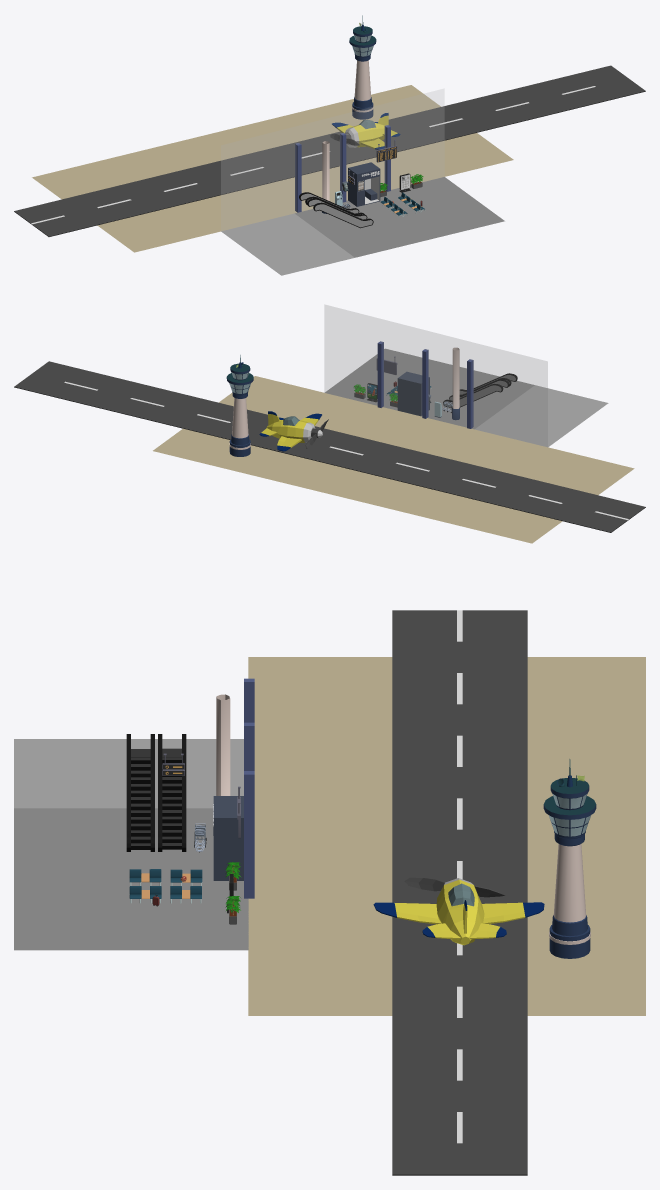
Rendered from airport3_compression.glb.
The picture shows the model from 3 angles, top to bottom: view 1: azimuth 30°, elevation 25°; view 2: azimuth 150°, elevation 25°; view 3: azimuth 270°, elevation 25°; orthographic projection. The views are drawn at different scales.
Parts seen in each view (by area): view 1: BG_Floor, BG_Outside, BG_Track, OBJ_Top, OBJ_Airplane, INT_Photobooth, INT_Escalator_handle1, BG_Column1, BG_Column3, BG_Column2; view 2: BG_Outside, BG_Floor, BG_Track, OBJ_Top, OBJ_Airplane, INT_Photobooth, INT_Escalator_handle2, BG_Column1, BG_Column2, BG_Column3, BG_Column4; view 3: BG_Outside, BG_Track, BG_Floor, OBJ_Top, OBJ_Airplane, INT_Photobooth, INT_Escalator_stair1, INT_Escalator_stair2, BG_Column1, BG_Column4, INT_Escalator_handle1, INT_Escalator_handle2.
Part boxes in pixels (left/top/right/bottom): BG_Floor: left=221, top=89, right=504, bottom=275; BG_Outside: left=32, top=85, right=513, bottom=252; BG_Track: left=14, top=65, right=645, bottom=236; OBJ_Top: left=349, top=15, right=376, bottom=119; OBJ_Airplane: left=330, top=113, right=400, bottom=149; INT_Photobooth: left=348, top=162, right=380, bottom=206; INT_Escalator_handle1: left=307, top=198, right=373, bottom=228; BG_Column1: left=322, top=141, right=329, bottom=213; BG_Column3: left=295, top=143, right=301, bottom=212; BG_Column2: left=340, top=132, right=346, bottom=202; BG_Outside: left=153, top=376, right=634, bottom=543; BG_Floor: left=324, top=305, right=608, bottom=447; BG_Track: left=14, top=361, right=645, bottom=532; OBJ_Top: left=226, top=355, right=253, bottom=456; OBJ_Airplane: left=259, top=411, right=328, bottom=451; INT_Photobooth: left=397, top=371, right=429, bottom=416; INT_Escalator_handle2: left=443, top=379, right=509, bottom=407; BG_Column1: left=452, top=347, right=459, bottom=420; BG_Column2: left=422, top=349, right=428, bottom=418; BG_Column3: left=467, top=359, right=473, bottom=428; BG_Column4: left=377, top=341, right=383, bottom=407; BG_Outside: left=248, top=657, right=645, bottom=1015; BG_Track: left=392, top=610, right=527, bottom=1175; BG_Floor: left=14, top=739, right=248, bottom=950; OBJ_Top: left=543, top=759, right=596, bottom=958; OBJ_Airplane: left=373, top=877, right=544, bottom=945; INT_Photobooth: left=213, top=796, right=243, bottom=880; INT_Escalator_stair1: left=131, top=749, right=150, bottom=849; INT_Escalator_stair2: left=162, top=748, right=181, bottom=849; BG_Column1: left=216, top=694, right=230, bottom=795; BG_Column4: left=244, top=771, right=254, bottom=898; INT_Escalator_handle1: left=126, top=734, right=154, bottom=851; INT_Escalator_handle2: left=158, top=734, right=186, bottom=851.
Size of the model in its own units: 75.61 by 12.73 by 35.79.
Materials: 35 (16 with a texture image).
